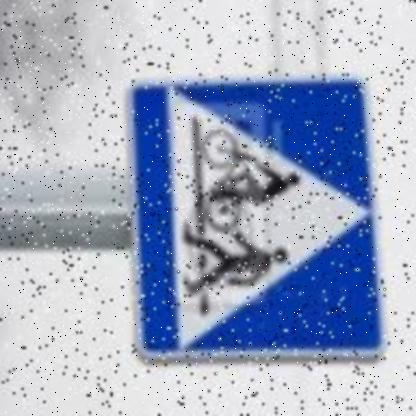Pedestrian Crossing: (126, 43, 386, 377)
